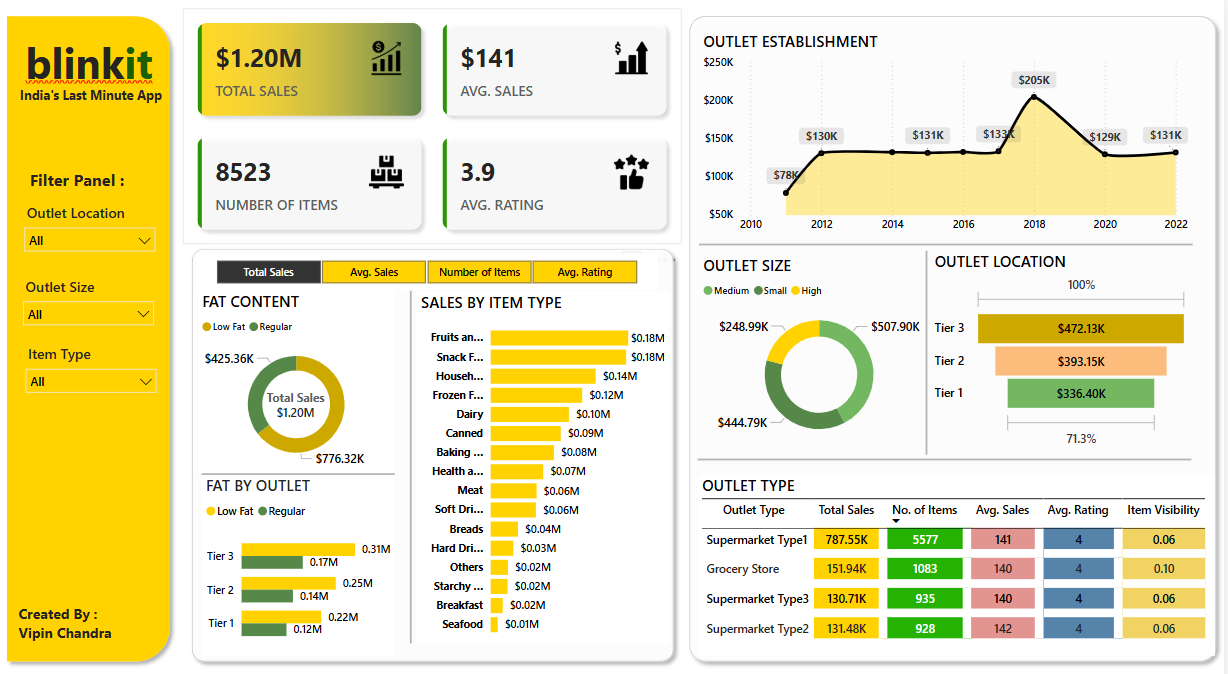

The page's visual inventory and layout, read from the dashboard file:
{"tool":"powerbi","page":{"name":"Page 1","canvas":[1400,800],"ordinal":0},"visuals":[{"type":"shape","box":[0,18.6,204.3,755.7],"z":0},{"type":"textbox","box":[17.1,42.9,171.4,85.7],"z":1000},{"type":"textbox","box":[0,102.9,210,35.7],"z":2000},{"type":"cardVisual","fields":{"Data":["Table1.Total Sales","Table1.Avg. Sales","Table1.Number of Items","Table1.Avg. Rating"]},"box":[209.9,18.5,570.3,270.2],"z":3000},{"type":"shape","box":[211.4,284.3,568.6,490],"z":4000},{"type":"donutChart","title":"FAT CONTENT","fields":{"Y":["Table1.Total Sales"],"Category":["Table1.Item Fat Content"]},"box":[226.6,341.2,225.4,210],"z":5000},{"type":"slicer","fields":{"Values":["Metrics.Metrics"]},"box":[223.4,300.7,530,40],"z":6000},{"type":"cardVisual","fields":{"Data":["Table1.Total Sales"]},"box":[285.3,432.3,106.5,77.2],"z":7000},{"type":"clusteredBarChart","title":"FAT BY OUTLET","fields":{"Y":["Table1.Total Sales"],"Category":["Table1.Outlet Location Type"],"Series":["Table1.Item Fat Content"]},"box":[231.6,551.2,220.8,206.9],"z":8000},{"type":"shape","box":[231.6,500.2,220.8,101.9],"z":9000},{"type":"shape","box":[452.4,341.2,35.5,403],"z":10000},{"type":"barChart","title":"SALES BY ITEM TYPE","fields":{"Y":["Table1.Total Sales"],"Category":["Table1.Item Type"]},"box":[477.1,342.7,288.7,403],"z":11000},{"type":"shape","box":[780,18.6,620,755.7],"z":12000},{"type":"lineChart","title":"OUTLET ESTABLISHMENT","fields":{"Y":["Table1.Total Sales"],"Category":["Table1.Outlet Establishment Year"]},"box":[800,44,564,240],"z":13000},{"type":"donutChart","title":"OUTLET SIZE","fields":{"Y":["Table1.Total Sales"],"Category":["Table1.Outlet Size"]},"box":[800,300,275,225],"z":14000},{"type":"shape","box":[800,271.4,564.3,34.3],"z":15000},{"type":"shape","box":[1025.7,295.7,68.6,232.9],"z":16000},{"type":"shape","box":[798.6,517.1,564.3,34.3],"z":17000},{"type":"funnel","title":"OUTLET LOCATION","fields":{"Category":["Table1.Outlet Location Type"],"Y":["Sum(Table1.Sales)"]},"box":[1064.3,295.7,300,230],"z":17001},{"type":"pivotTable","title":"OUTLET TYPE","fields":{"Rows":["Table1.Outlet Type"],"Values":["Table1.Total Sales","Table1.Number of Items","Table1.Avg. Sales","Table1.Avg. Rating","Avg(Table1.Item Visibility)"]},"box":[798.6,551.4,591.4,207.1],"z":17002},{"type":"slicer","fields":{"Values":["Table1.Outlet Location Type"]},"box":[18.6,235.7,170,70],"z":17003},{"type":"slicer","fields":{"Values":["Table1.Outlet Size"]},"box":[17.1,320,170,70],"z":17004},{"type":"slicer","fields":{"Values":["Table1.Item Type"]},"box":[20,397.1,170,70],"z":17005},{"type":"textbox","box":[30,197.1,127.1,38.6],"z":17006},{"type":"textbox","box":[17.1,694.3,131.4,64.3],"z":17007}]}

Visuals, with their boxes on the page's 1400x800 design canvas (x1, y1, x2, y2). These are canvas units, not pixel positions in the 1228x674 screenshot, which may show the page scaled, cropped or inside an application window:
shape: bbox(0, 19, 204, 774)
textbox: bbox(17, 43, 188, 129)
textbox: bbox(0, 103, 210, 139)
cardVisual - Table1.Total Sales x Table1.Avg. Sales: bbox(210, 18, 780, 289)
shape: bbox(211, 284, 780, 774)
"FAT CONTENT" donutChart: bbox(227, 341, 452, 551)
slicer - Metrics.Metrics: bbox(223, 301, 753, 341)
cardVisual - Table1.Total Sales: bbox(285, 432, 392, 510)
"FAT BY OUTLET" clusteredBarChart: bbox(232, 551, 452, 758)
shape: bbox(232, 500, 452, 602)
shape: bbox(452, 341, 488, 744)
"SALES BY ITEM TYPE" barChart: bbox(477, 343, 766, 746)
shape: bbox(780, 19, 1400, 774)
"OUTLET ESTABLISHMENT" lineChart: bbox(800, 44, 1364, 284)
"OUTLET SIZE" donutChart: bbox(800, 300, 1075, 525)
shape: bbox(800, 271, 1364, 306)
shape: bbox(1026, 296, 1094, 529)
shape: bbox(799, 517, 1363, 551)
"OUTLET LOCATION" funnel: bbox(1064, 296, 1364, 526)
"OUTLET TYPE" pivotTable: bbox(799, 551, 1390, 758)
slicer - Table1.Outlet Location Type: bbox(19, 236, 189, 306)
slicer - Table1.Outlet Size: bbox(17, 320, 187, 390)
slicer - Table1.Item Type: bbox(20, 397, 190, 467)
textbox: bbox(30, 197, 157, 236)
textbox: bbox(17, 694, 148, 759)
